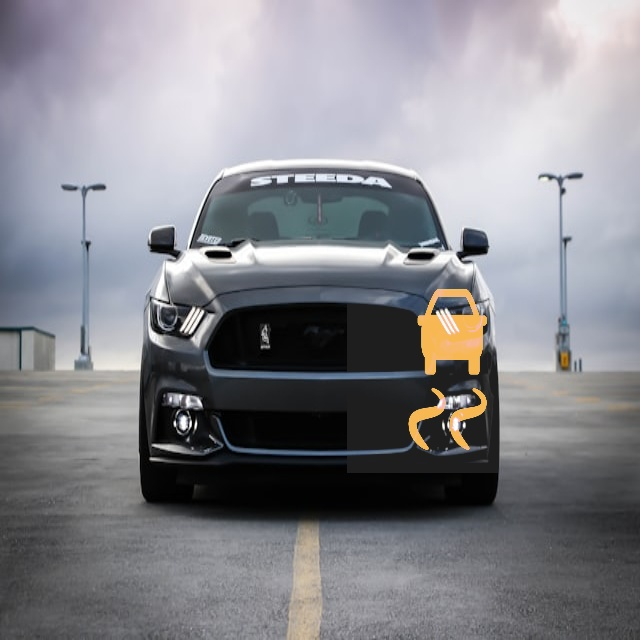symbol: (347, 267, 553, 473)
